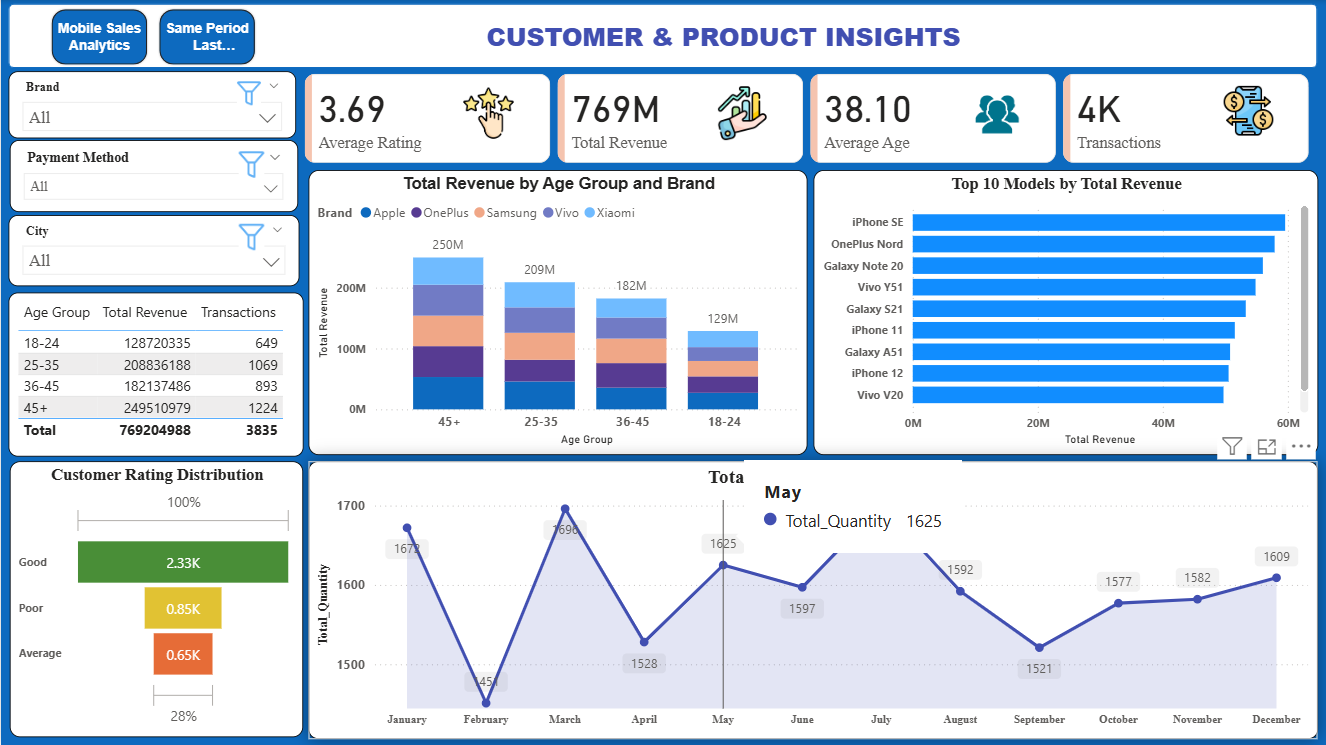

What the dashboard file says about the page in this screenshot:
{"tool":"powerbi","page":{"name":"Customer & Product Insights","canvas":[1280,720],"ordinal":1},"visuals":[{"type":"slicer","fields":{"Values":["Mobile Sales.Payment Method"]},"box":[8.4,135.1,278,70],"z":0},{"type":"slicer","fields":{"Values":["Mobile Sales.Brand"]},"box":[7.2,68.8,277.5,65.1],"z":1000},{"type":"image","box":[179.8,146,124.3,25.3],"z":2000},{"type":"image","box":[177.3,78.4,124.3,22.9],"z":3000},{"type":"shape","box":[7.2,3.6,1263.1,62],"z":4000},{"type":"textbox","box":[276.3,13.3,842.1,51.9],"z":5000},{"type":"cardVisual","fields":{"Data":["Mobile Sales.Average Rating","Mobile Sales.Total Revenue","Mobile Sales.Average Age","Mobile Sales.Transactions"]},"box":[276.3,54.3,1003.8,120],"z":7000},{"type":"image","box":[640.6,83.2,149.6,51.9],"z":8000},{"type":"image","box":[1128,82,152,49.5],"z":9000},{"type":"image","box":[395.7,84.5,149.6,49.5],"z":10000},{"type":"image","box":[881.9,85.7,159.3,49.5],"z":11000},{"type":"slicer","fields":{"Values":["Mobile Sales.City"]},"box":[7.2,207.5,281,69],"z":12000},{"type":"image","box":[179.8,216,124.3,25.3],"z":13000},{"type":"columnChart","fields":{"Category":["Mobile Sales.Age Group"],"Y":["Mobile Sales.Total Revenue"],"Series":["Mobile Sales.Brand"]},"box":[296.8,164.1,481.4,275],"z":14000},{"type":"clusteredBarChart","title":"Top 10 Models by Total Revenue","fields":{"Category":["Mobile Sales.Model"],"Y":["Mobile Sales.Total Revenue"]},"box":[784.2,164.1,487,275],"z":15000},{"type":"lineChart","fields":{"Category":["Custom_Calender.Date.Variation.Date Hierarchy.Month"],"Y":["Mobile Sales.Total_Quantity"]},"box":[296.8,445.2,974,267.8],"z":16000},{"type":"tableEx","fields":{"Values":["Mobile Sales.Age Group","Mobile Sales.Total Revenue","Mobile Sales.Transactions"]},"box":[7.2,282.3,284.7,158],"z":17000},{"type":"funnel","title":"Customer Rating Distribution","fields":{"Category":["Mobile Sales.Rating Status"],"Y":["CountNonNull(Mobile Sales.Customer Ratings)"]},"box":[8.4,445.2,283,266],"z":18000},{"type":"pageNavigator","box":[47.1,7.2,201.5,57.9],"z":19000}]}

Visuals, with their boxes in screenshot pixels (x1, y1, x2, y2), scaled from the page's 1280x720 canvas onto the 1326x745 screenshot:
slicer - Mobile Sales.Payment Method: <box>9,140,297,212</box>
slicer - Mobile Sales.Brand: <box>7,71,295,139</box>
image: <box>186,151,315,177</box>
image: <box>184,81,312,105</box>
shape: <box>7,4,1316,68</box>
textbox: <box>286,14,1159,67</box>
cardVisual - Mobile Sales.Average Rating x Mobile Sales.Total Revenue: <box>286,56,1325,180</box>
image: <box>664,86,819,140</box>
image: <box>1169,85,1325,136</box>
image: <box>410,87,565,139</box>
image: <box>914,89,1079,140</box>
slicer - Mobile Sales.City: <box>7,215,299,286</box>
image: <box>186,224,315,250</box>
columnChart - Mobile Sales.Age Group x Mobile Sales.Total Revenue: <box>307,170,806,454</box>
"Top 10 Models by Total Revenue" clusteredBarChart: <box>812,170,1317,454</box>
lineChart - Custom_Calender.Date.Variation.Date Hierarchy.Month x Mobile Sales.Total_Quantity: <box>307,461,1316,738</box>
tableEx - Mobile Sales.Age Group x Mobile Sales.Total Revenue: <box>7,292,302,456</box>
"Customer Rating Distribution" funnel: <box>9,461,302,736</box>
pageNavigator: <box>49,7,258,67</box>
